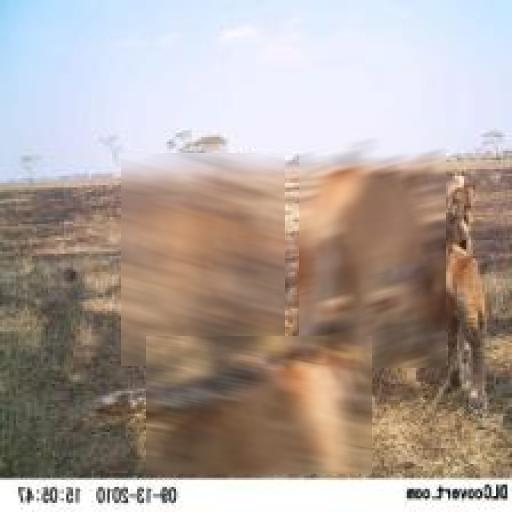lion: (299, 114, 446, 368), (121, 153, 285, 366), (146, 336, 372, 474)
